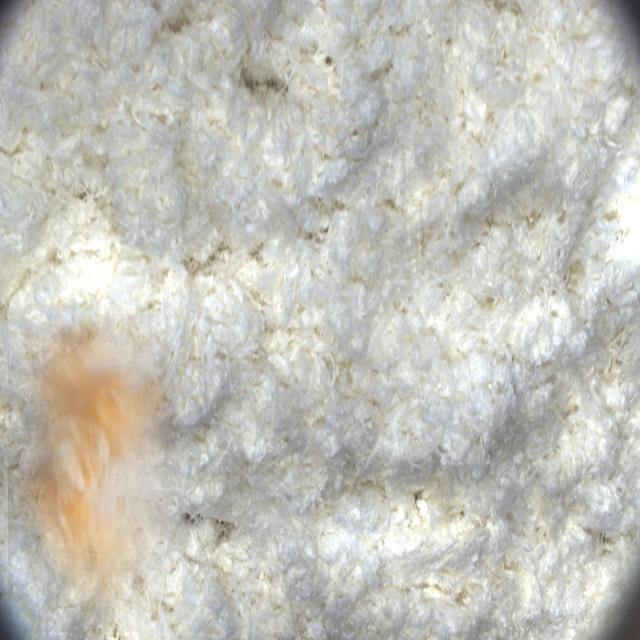dust: (8, 314, 186, 633)
